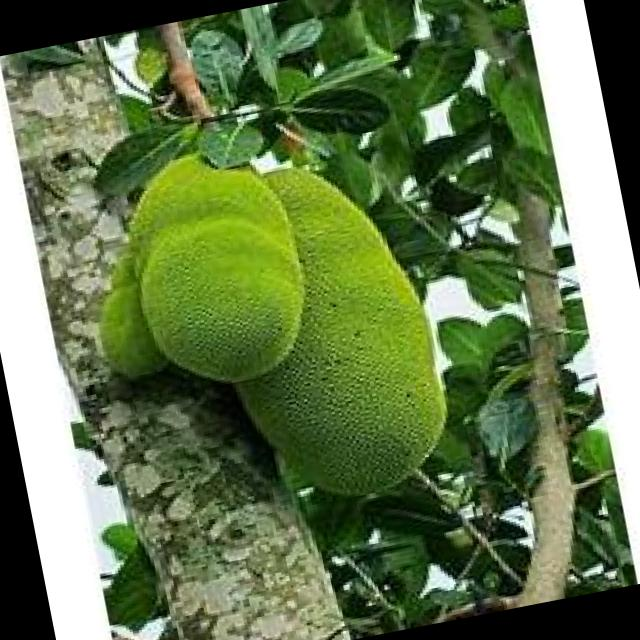Fruit: (184, 121, 486, 539)
